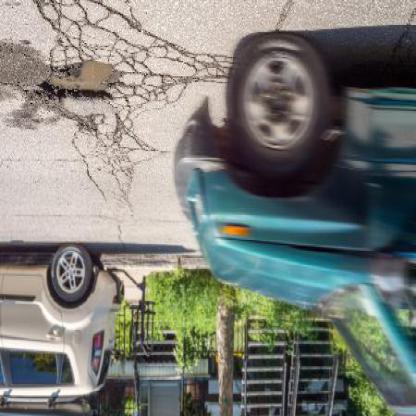pothole: (38, 64, 122, 104)
